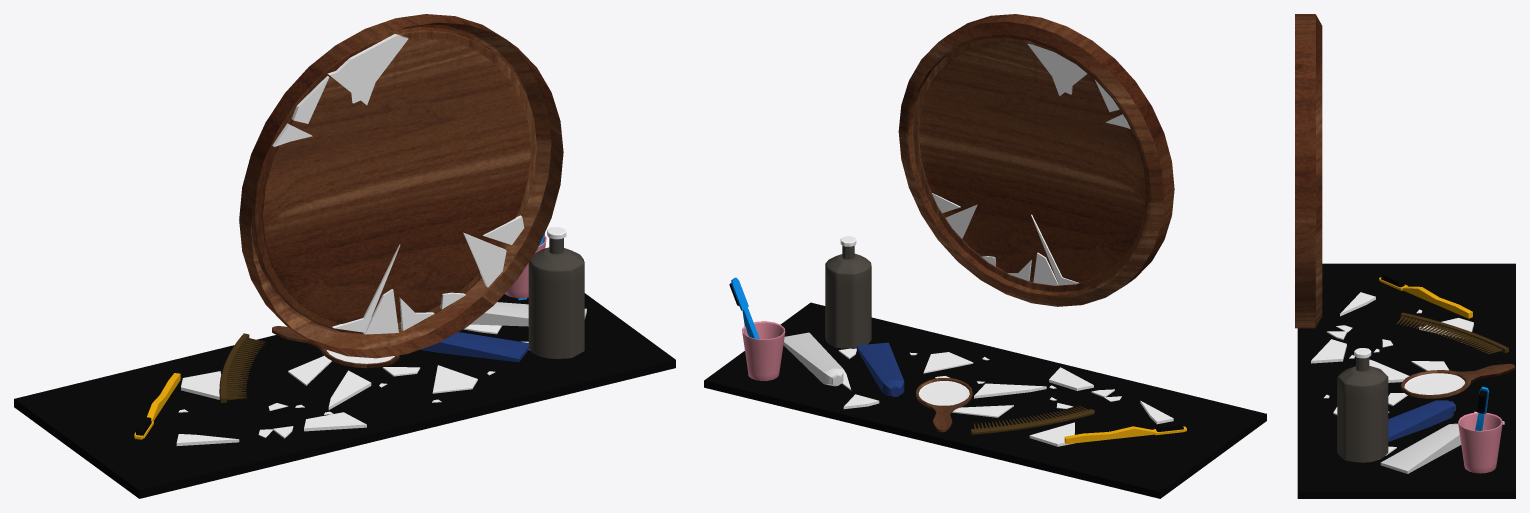
File: PROP_BATHROOM_SET1.fbx
3 renders of one model, left to right at view 1: azimuth 30°, elevation 25°; view 2: azimuth 150°, elevation 25°; view 3: azimuth 270°, elevation 25°, orthographic. The views are drawn at different scales.
Visible parts, largest first — view 1: pCylinder14; view 2: pCylinder14; view 3: pCylinder14.
Part boxes in pixels (bbox=[...]): pCylinder14: bbox=[14, 14, 675, 498]; pCylinder14: bbox=[704, 14, 1266, 498]; pCylinder14: bbox=[1295, 14, 1515, 498].
Bounding box in the file's own units: 169 × 126 × 69.33.
Materials: 1 (1 with a texture image).
